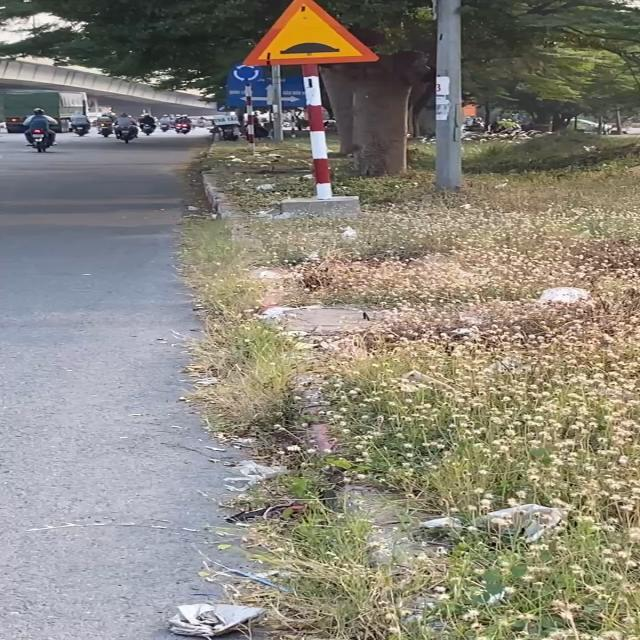221-duong-go-ghe: (238, 0, 385, 68)
303-noi-giao-nhau-chay-theo-vong-xuyen: (230, 62, 262, 84)
